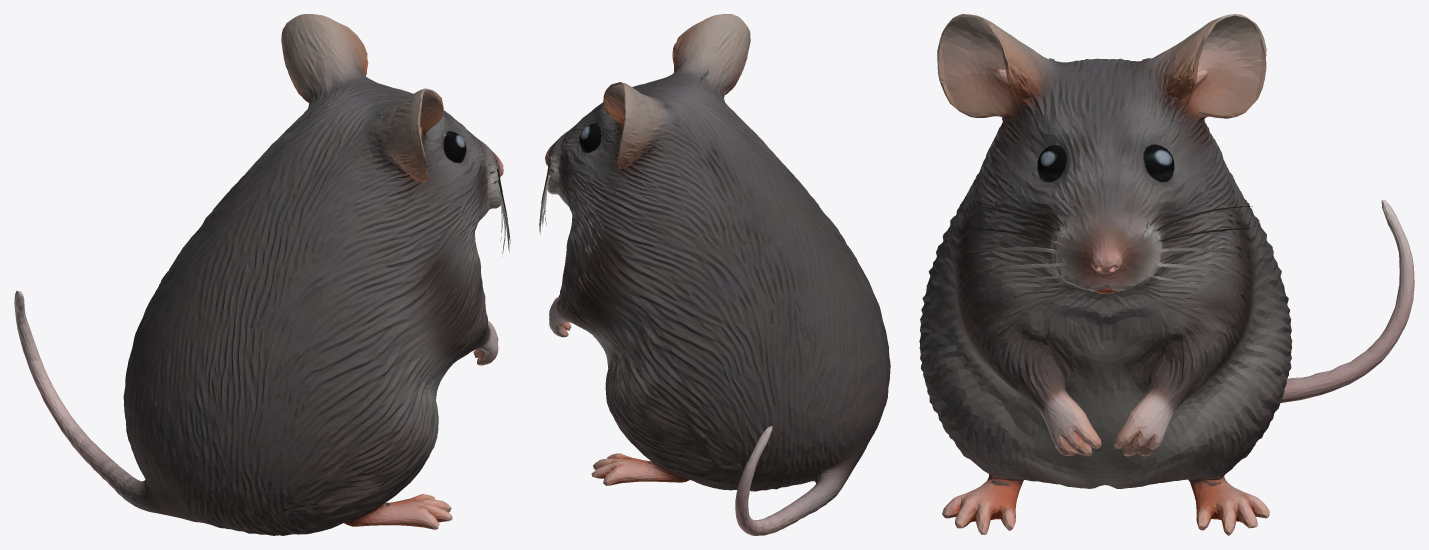
File: 3d+mouse+model.fbx
The picture shows the model from 3 angles, left to right: view 1: azimuth 30°, elevation 25°; view 2: azimuth 150°, elevation 25°; view 3: azimuth 270°, elevation 25°; orthographic projection. The views are drawn at different scales.
Parts seen in each view (by area): view 1: tripo_node_11ef6220; view 2: tripo_node_11ef6220; view 3: tripo_node_11ef6220.
Part boxes in pixels (x1,y1,x2,y2): tripo_node_11ef6220: [14, 14, 510, 535]; tripo_node_11ef6220: [539, 14, 890, 535]; tripo_node_11ef6220: [919, 14, 1414, 535].
Bounding box in the file's own units: 0.8871 × 0.9992 × 0.8875.
1 material, 1 textured.
